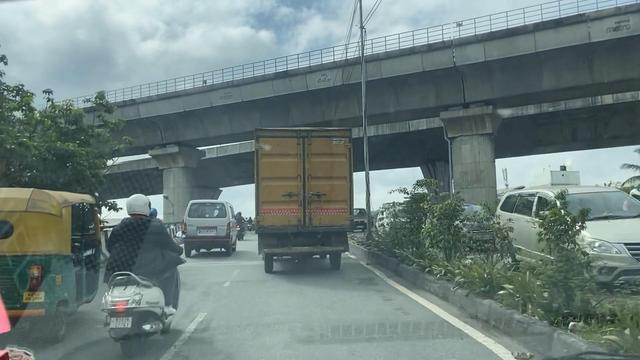HMV: (252, 128, 348, 280)
LMV: (107, 194, 167, 356)
